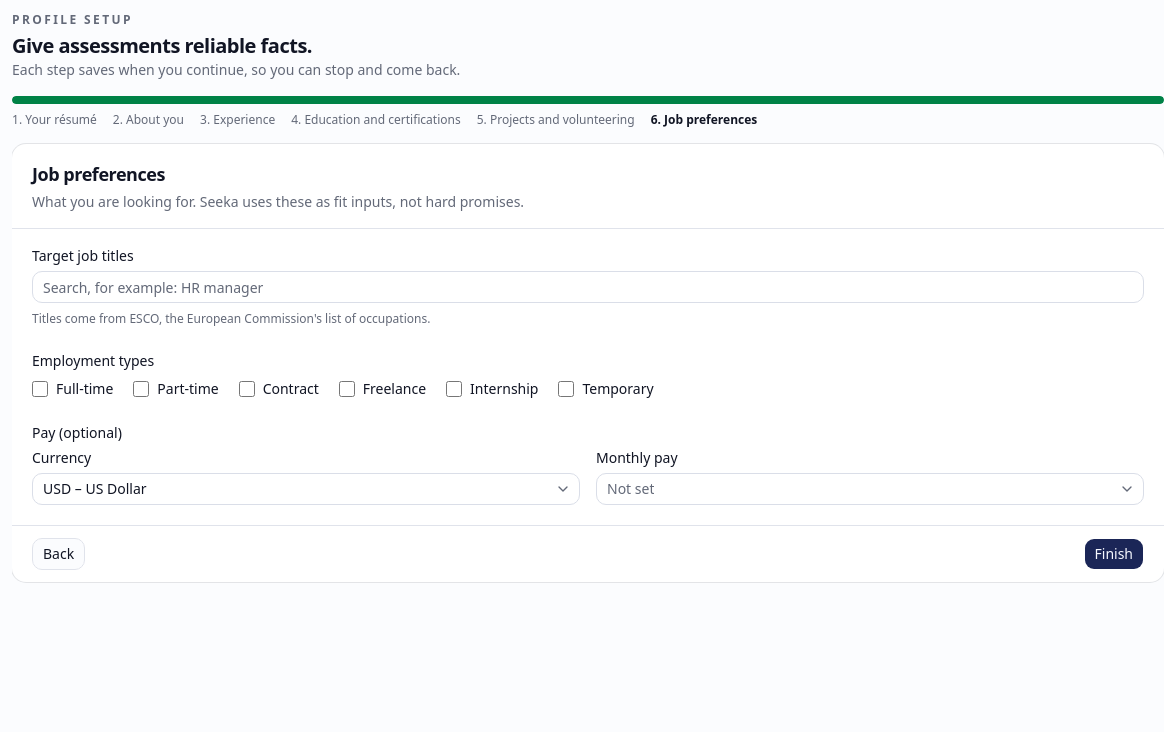
Test: OnboardingPage › Job preferences › finds titles from the list, shows each chosen one, and can remove it
In the dropdown labelled "Target job titles": (588, 287) [32,271,1144,303], type "hr"
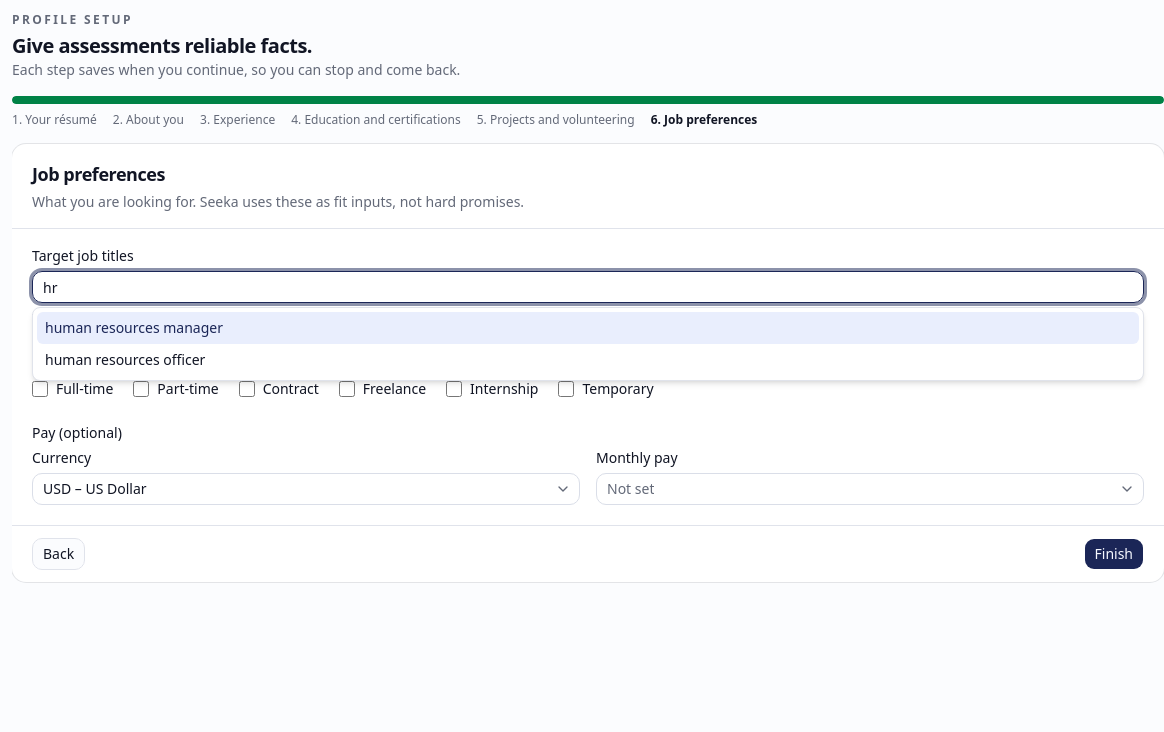
Click the option "human resources manager": click(134, 328) [37,312,1139,344]
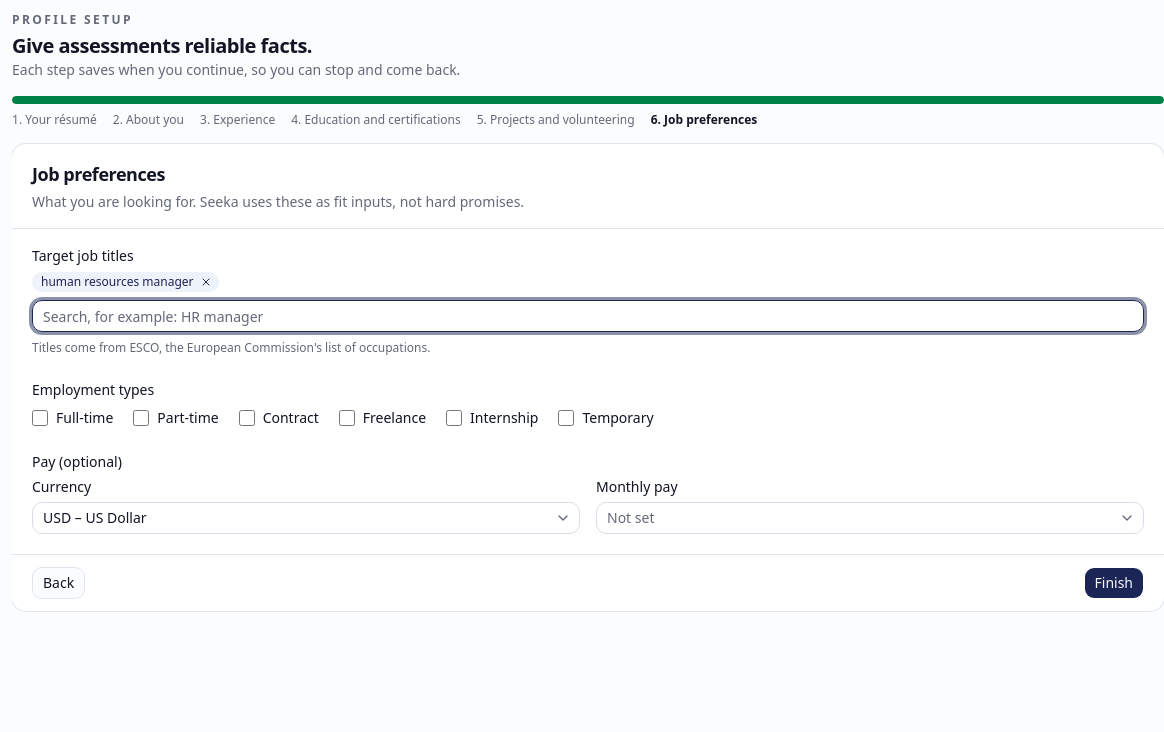
In the dropdown labelled "Target job titles": (588, 316) [32,300,1144,332], type "hr"
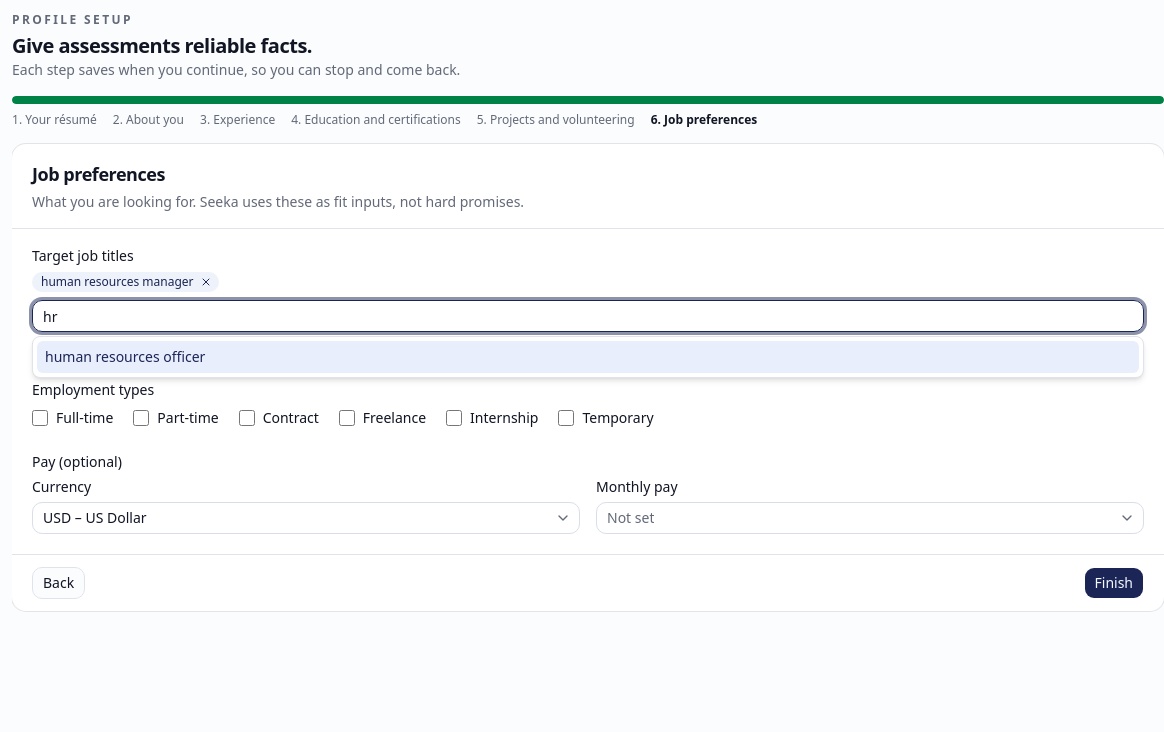
Click the option "human resources officer": click(125, 356) [37,341,1139,373]
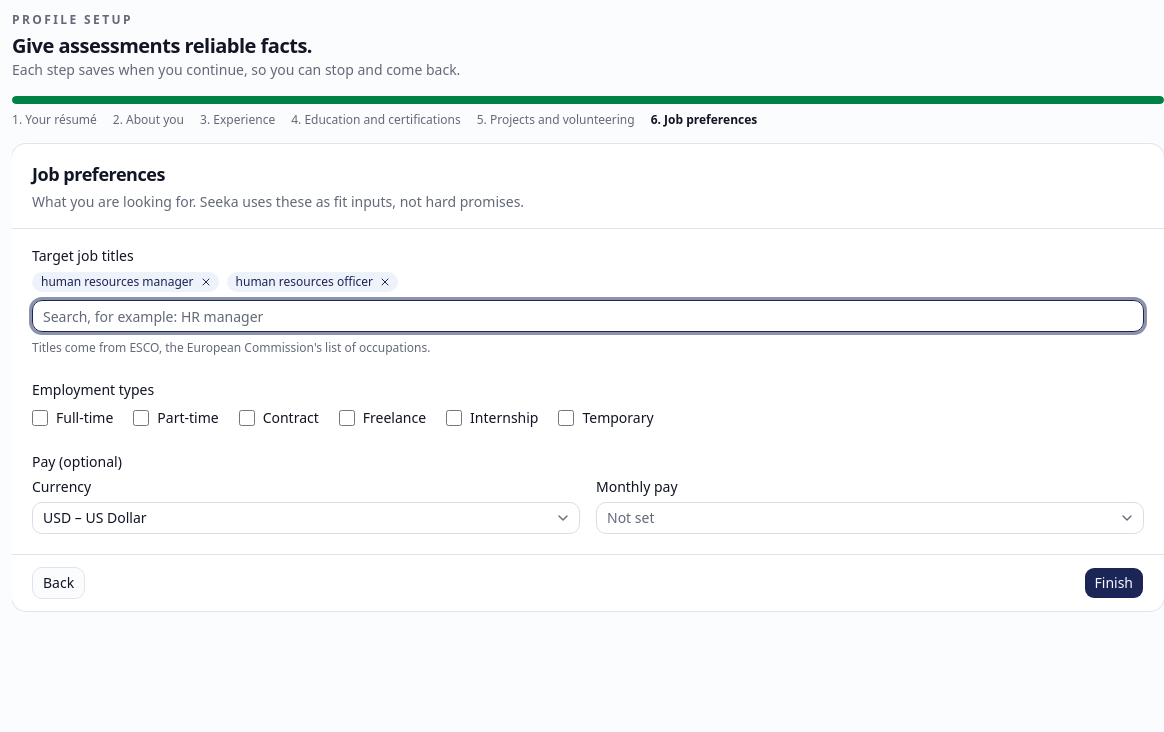
Click the button named "remove human resources officer": click(385, 282) [377,274,393,290]
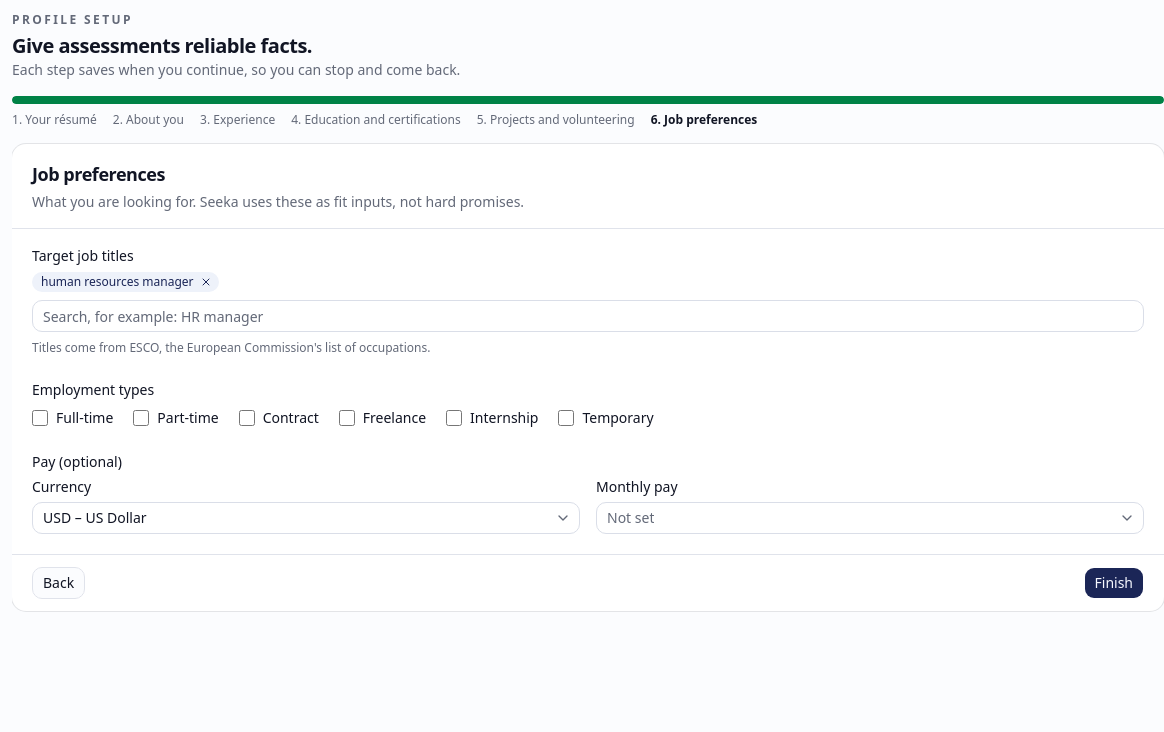
Expected: the text "human resources manager" is shown, [32,272,218,292]
Expected: the text "human resources officer" is gone
